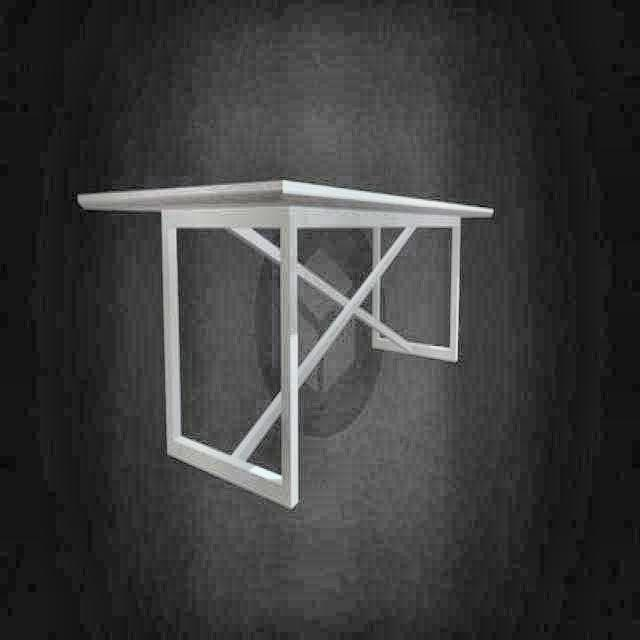mesa: (80, 177, 495, 510)
